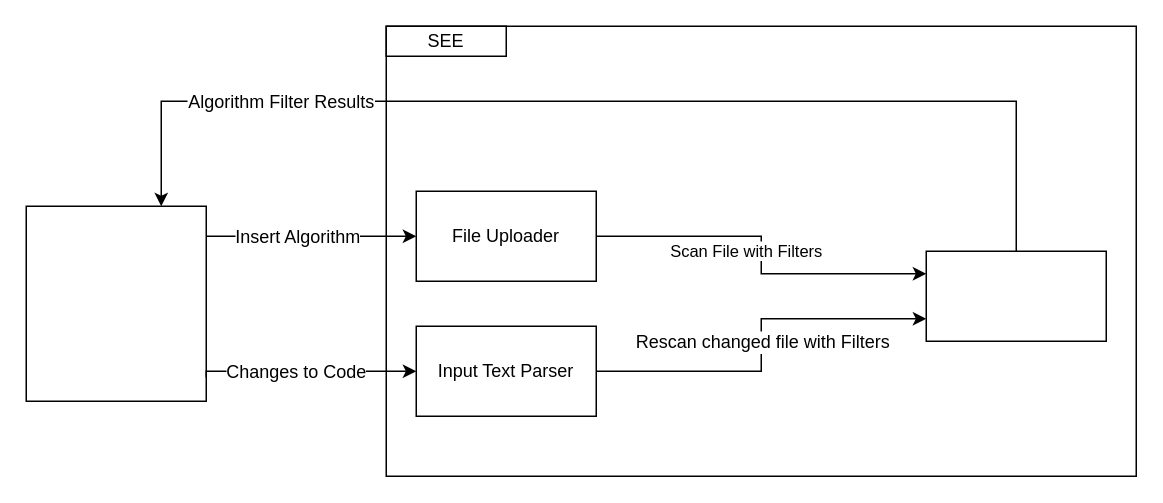
Image size: 1163x503. Some labels were removed from this diagram. The shapes that lost their labels are listed below. From the top down, each one's centre as x and y in pixels, then its label:
At [115,303]: "Data Scientist".
At [1015,295]: "Filter Parser".
